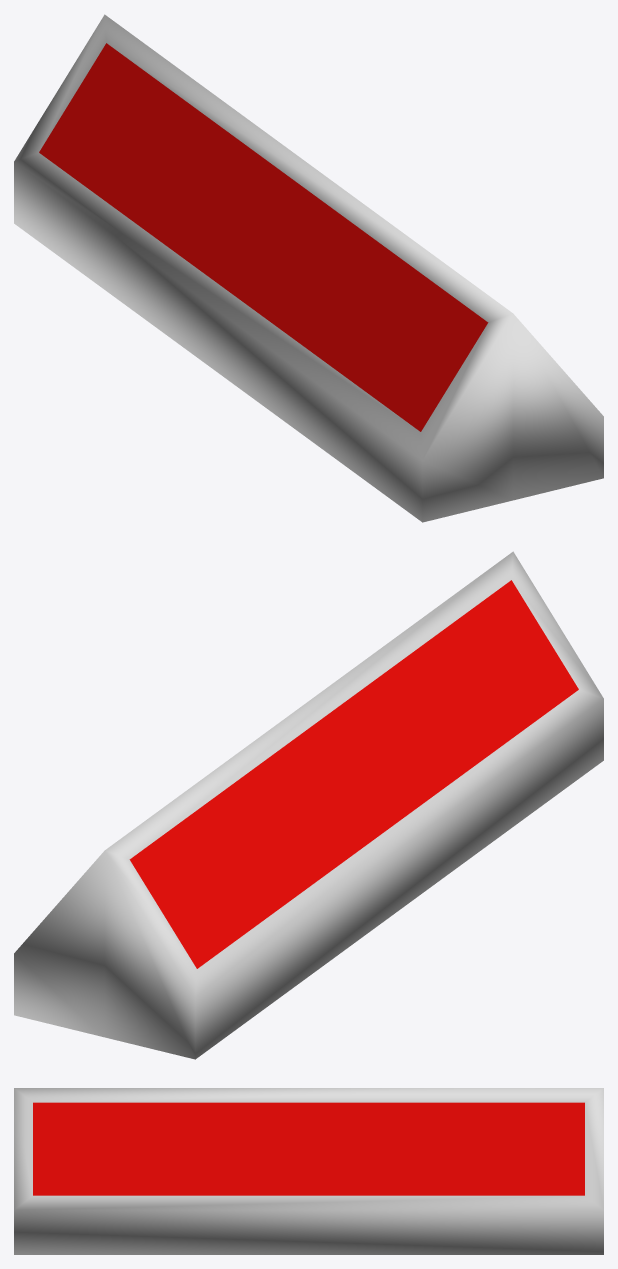
File: Taxi_Ad 1.fbx
The picture shows the model from 3 angles, top to bottom: view 1: azimuth 30°, elevation 25°; view 2: azimuth 150°, elevation 25°; view 3: azimuth 270°, elevation 25°; orthographic projection. The views are drawn at different scales.
Visible parts, largest first — view 1: Cube; view 2: Cube; view 3: Cube.
Part boxes in pixels (<box>): Cube: <box>14,14,603,522</box>; Cube: <box>14,551,603,1059</box>; Cube: <box>14,1088,603,1254</box>.
Bounding box in the file's own units: 15.2 × 14.97 × 59.28.
